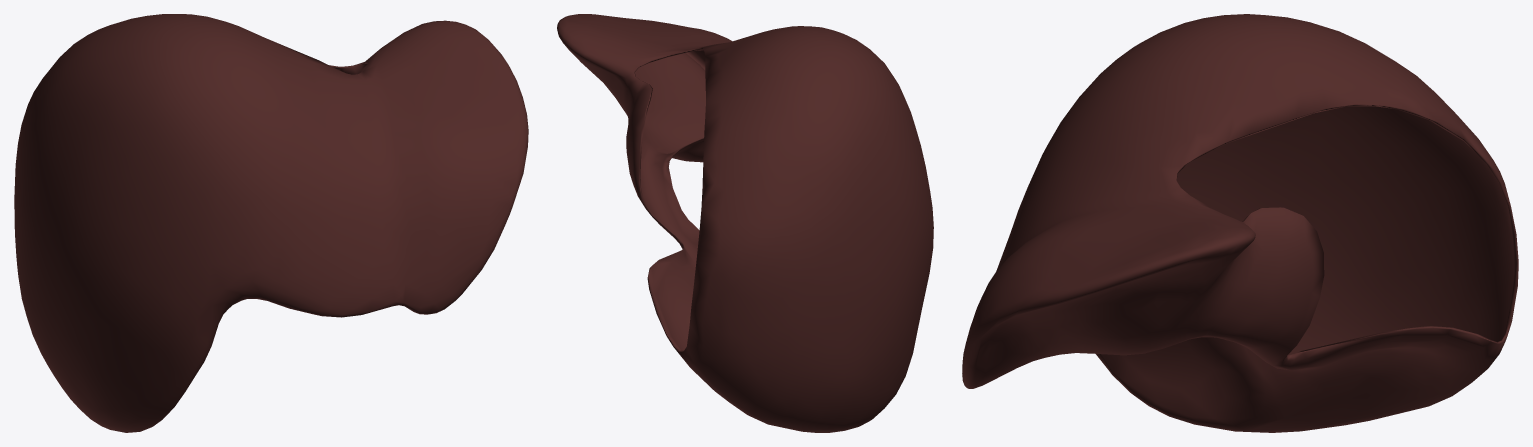
The model's file is liver.glb.
3 views of the same model, side by side, from view 1: azimuth 30°, elevation 25°; view 2: azimuth 150°, elevation 25°; view 3: azimuth 270°, elevation 25° (orthographic). The views are drawn at different scales.
Visible parts, largest first — view 1: liver; view 2: liver; view 3: liver.
Part boxes in pixels (x1=…): liver: x1=14, y1=14, x2=528, y2=432; liver: x1=557, y1=14, x2=933, y2=432; liver: x1=962, y1=14, x2=1518, y2=432.
Bounding box in the file's own units: 0.1913 × 0.1744 × 0.194.
